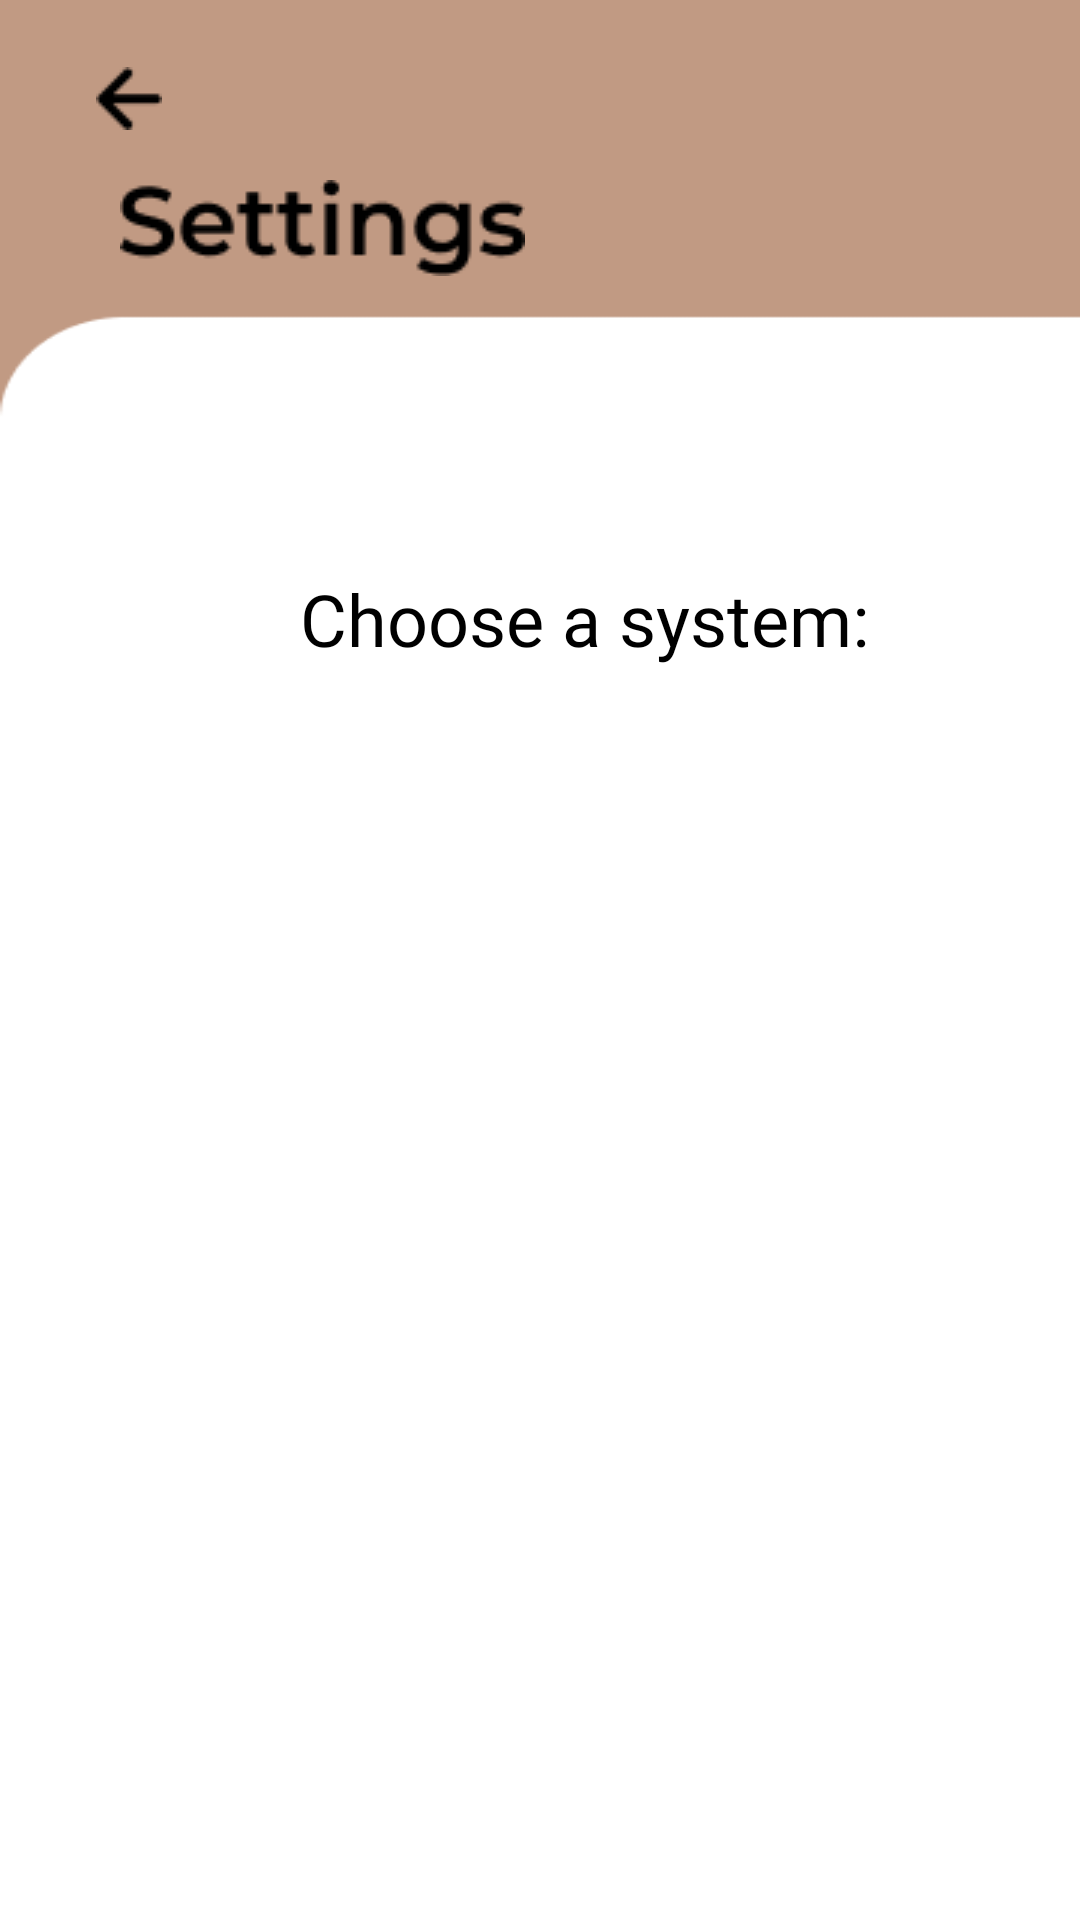

Locate icon controls on the screen. Image size 1080w x 1920h, boxes as Rect(x1, y1, x2, y2).
back: Rect(96, 67, 162, 130)
